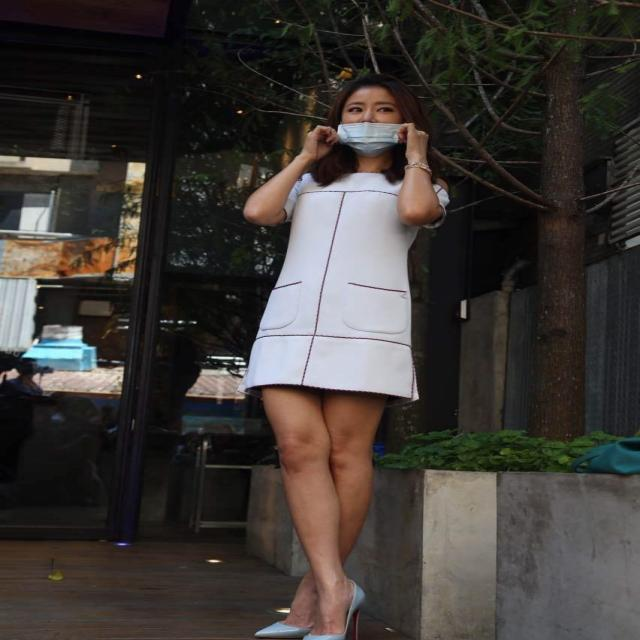mask: (342, 85, 400, 152)
